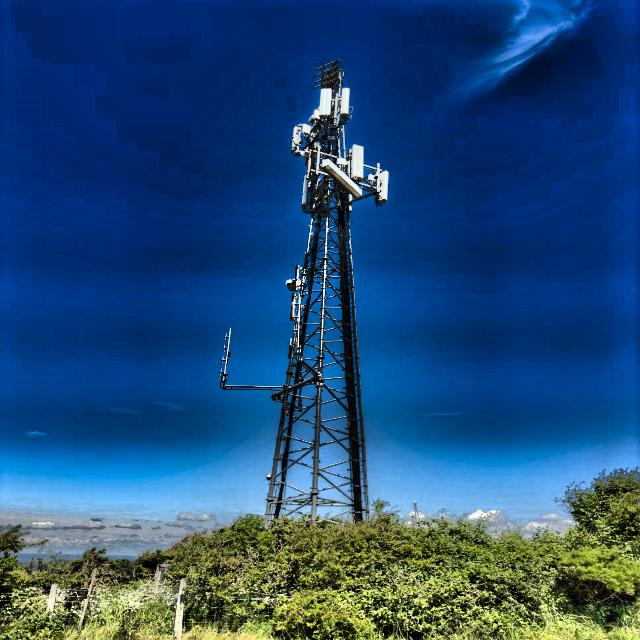antenna: (375, 165, 388, 204), (350, 144, 363, 179), (318, 88, 332, 115), (291, 124, 301, 153), (340, 87, 349, 114)
